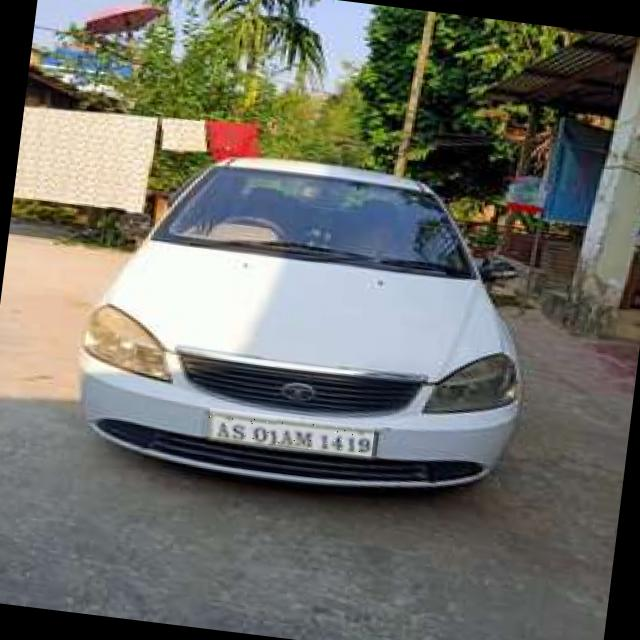Plate: (207, 408, 375, 457)
